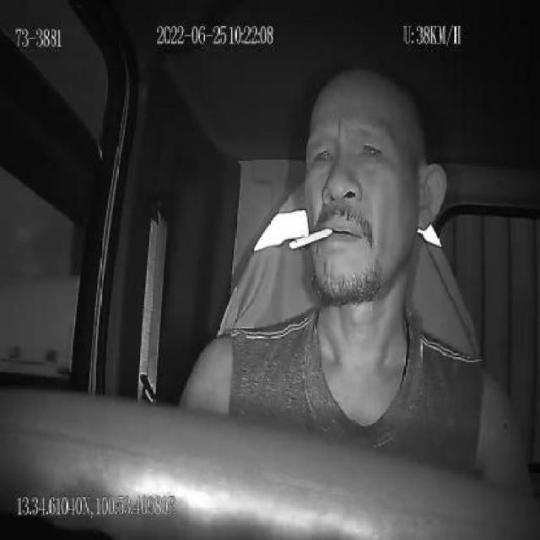smoking: (288, 225, 334, 249)
